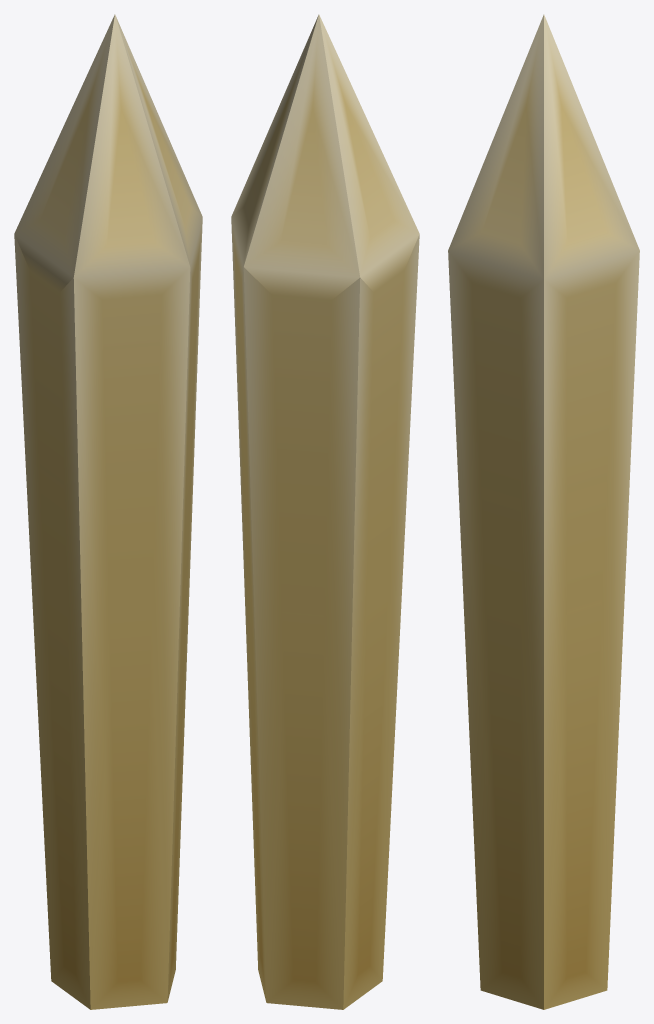
The model's file is Prop_Crystals_Yellow.fbx.
3 renders of one model, left to right at view 1: azimuth 30°, elevation 25°; view 2: azimuth 150°, elevation 25°; view 3: azimuth 270°, elevation 25°, orthographic.
Visible parts, largest first — view 1: Prop_Crystals_Yellow; view 2: Prop_Crystals_Yellow; view 3: Prop_Crystals_Yellow.
Boxes of the visible parts, x1,y1,x2,y2 form: Prop_Crystals_Yellow: (14,14,202,1009); Prop_Crystals_Yellow: (231,14,419,1009); Prop_Crystals_Yellow: (448,14,639,1009).
Bounding box in the file's own units: 20.56 × 120 × 21.62.
Materials: 1 (1 with a texture image).
